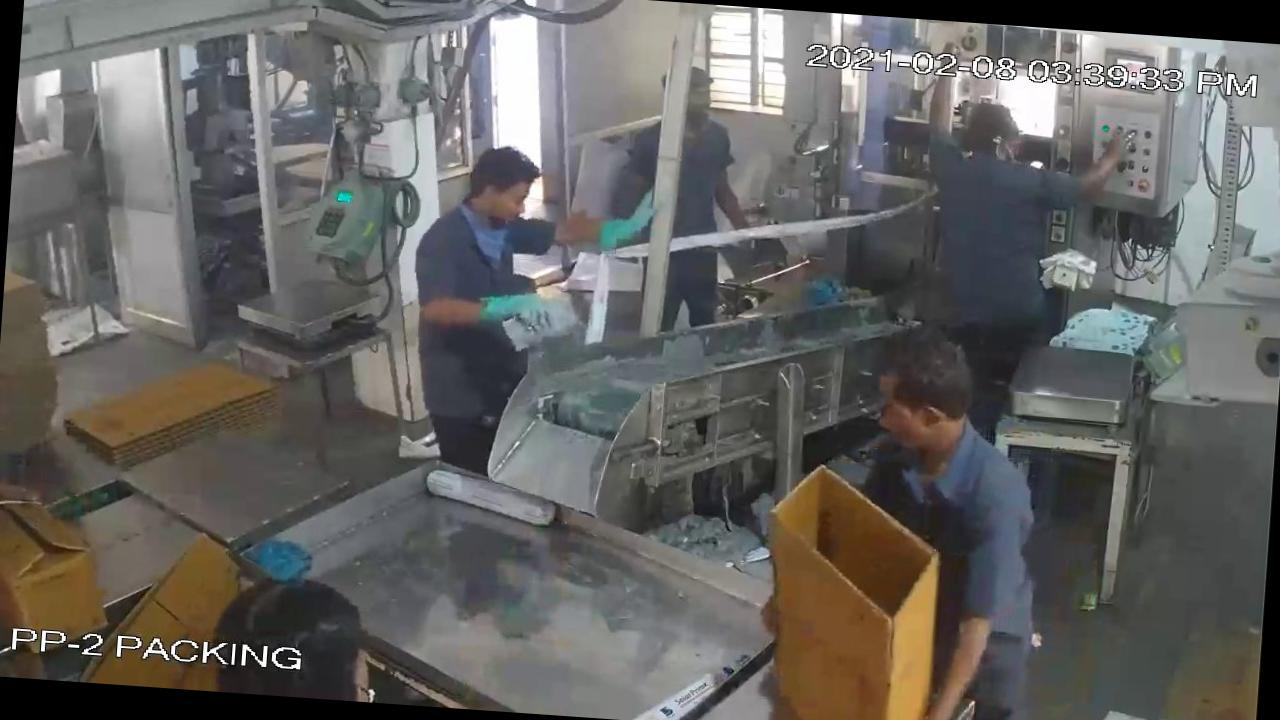Gloves: (538, 165, 664, 259), (412, 269, 562, 343)
No-gloves: (877, 558, 1006, 720)
